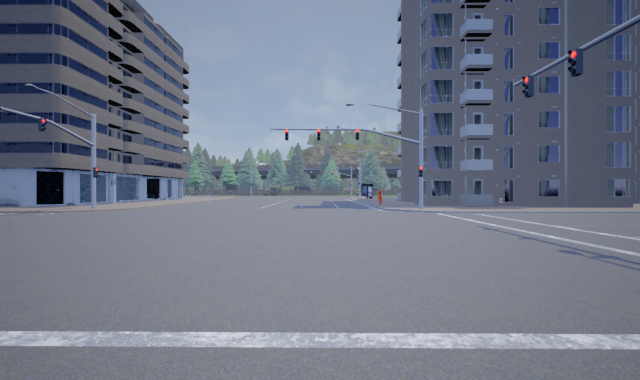pedestrian: (375, 185, 384, 207), (495, 195, 506, 210)
traffic_light: (567, 47, 584, 77), (521, 73, 535, 98), (38, 116, 47, 132), (92, 166, 100, 178), (284, 127, 290, 141), (417, 165, 423, 178), (316, 127, 321, 141), (355, 128, 360, 140)
